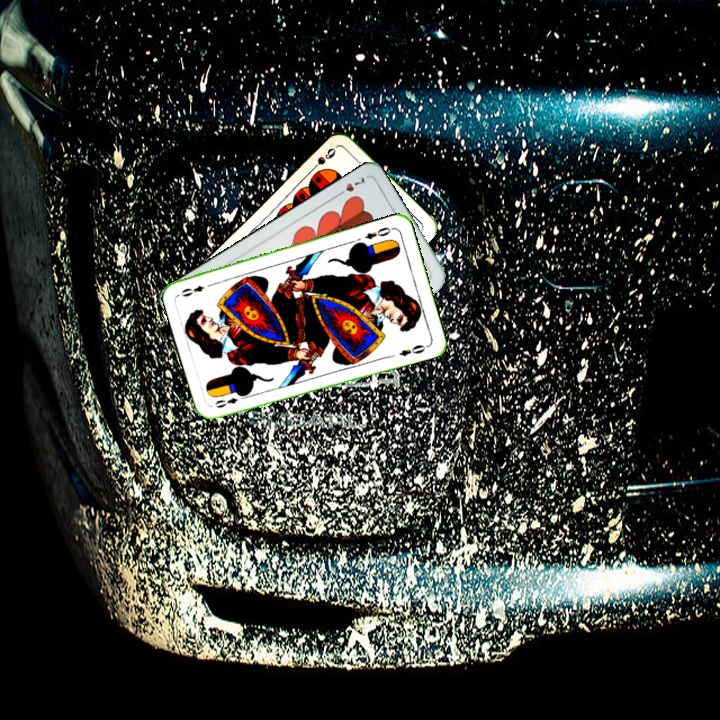EO: (211, 390, 249, 411), (361, 223, 396, 242)
H7: (332, 173, 367, 199)
S9: (306, 144, 338, 177)
